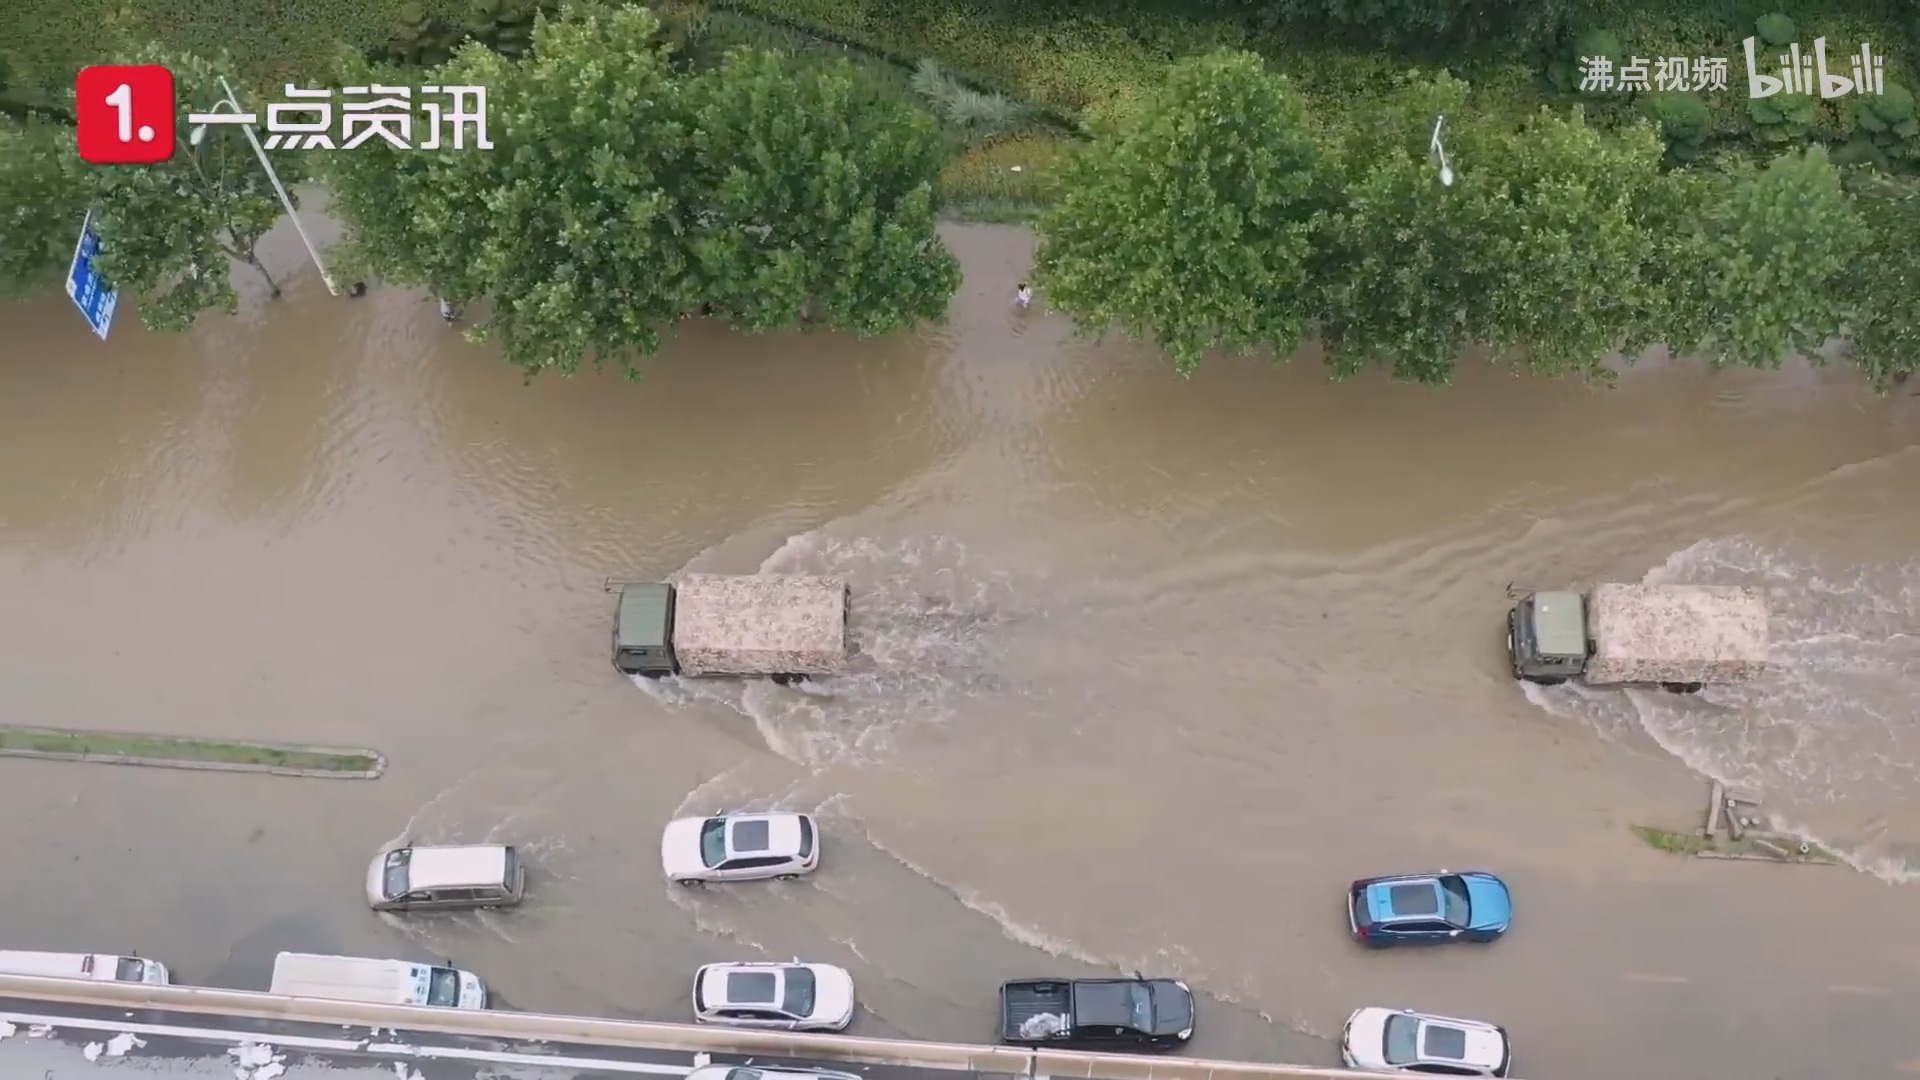puddle: (17, 295, 1917, 1080)
